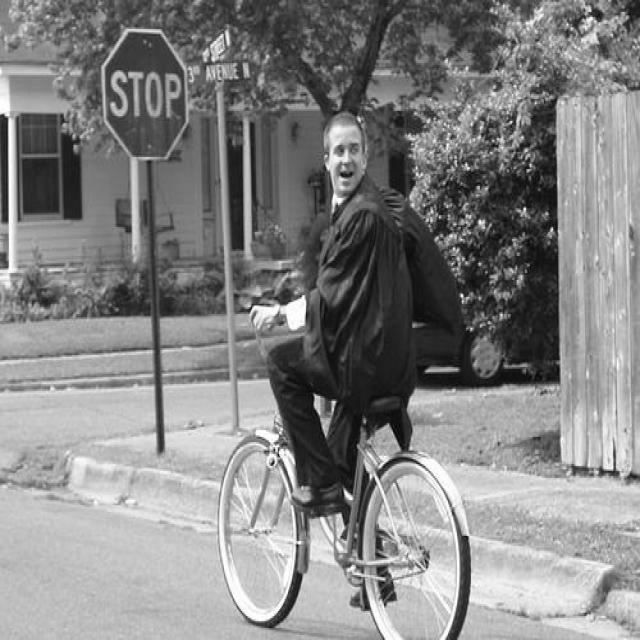vehicle: (412, 324, 506, 385)
